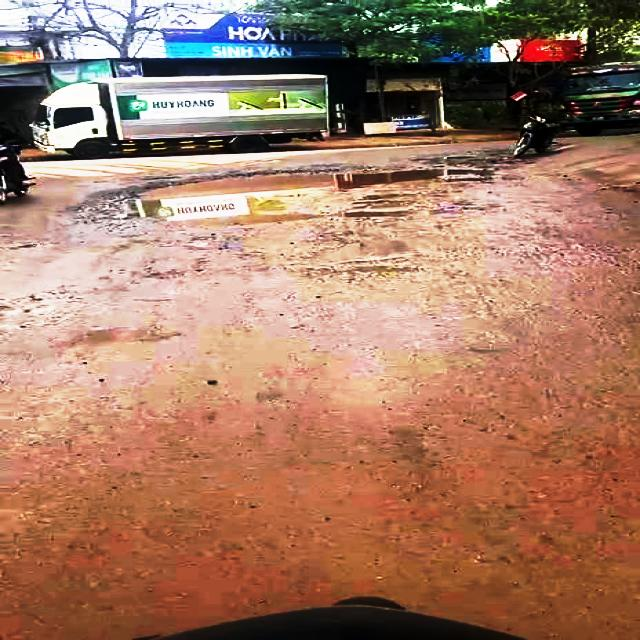pothole: (88, 166, 497, 229)
